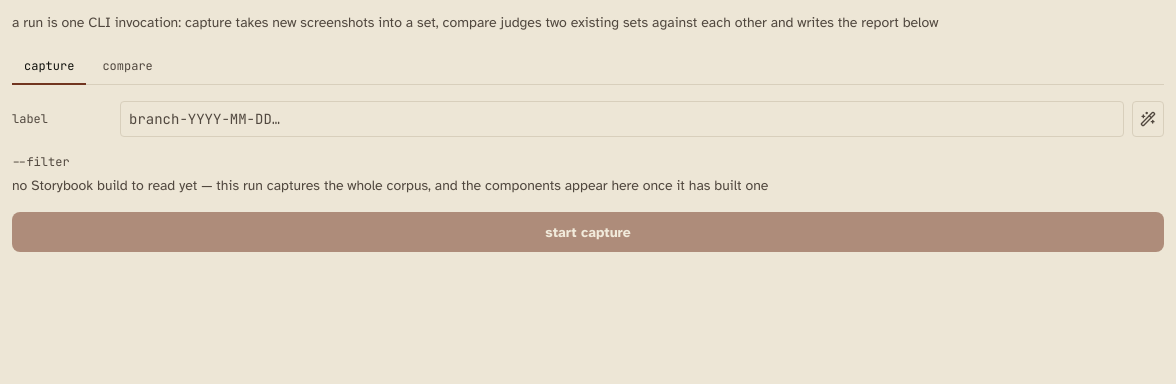
Scenario: starting a job › clears a refusal when the reviewer changes mode
In the field labelled "label": [622, 119] box [120,101,1124,137], type "main-2026-08-17"
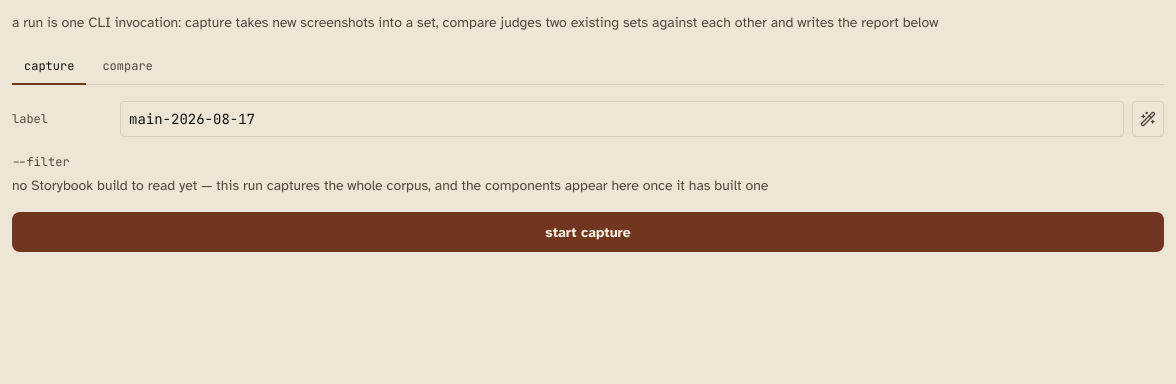
Click the button "start capture": [588, 232] box [12,212,1164,252]
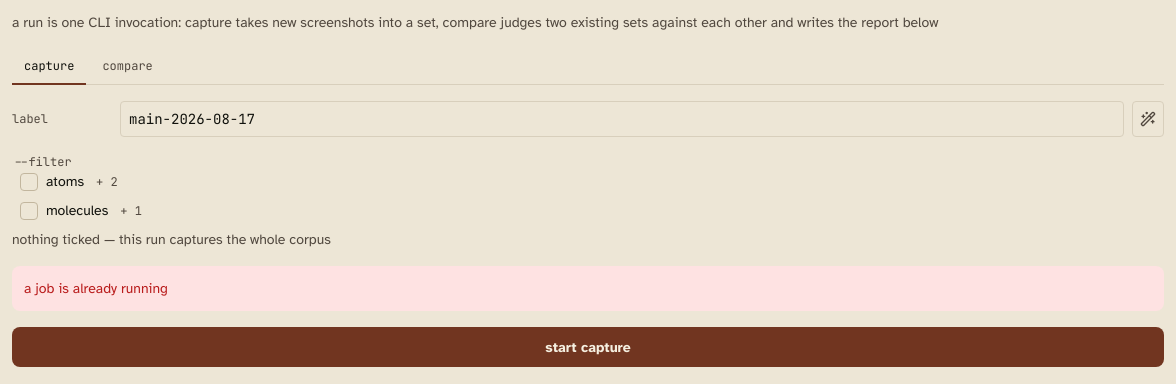
Expected: the message reads "a job is already running", [24,280,168,297]
Click the tab "compare": [128, 67] box [90,49,165,85]
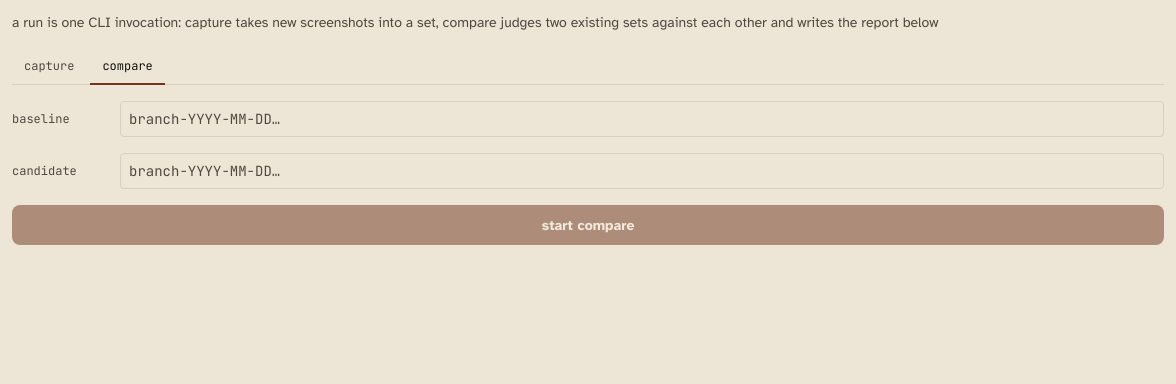
Expected: the message "a job is already running" is gone
